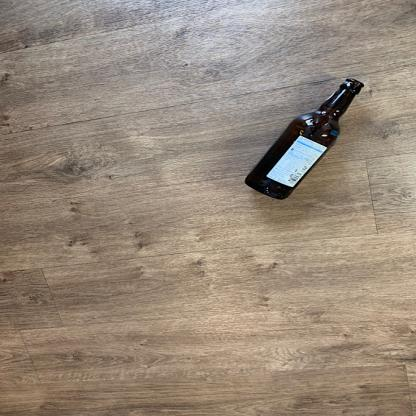trash: (245, 78, 363, 203)
